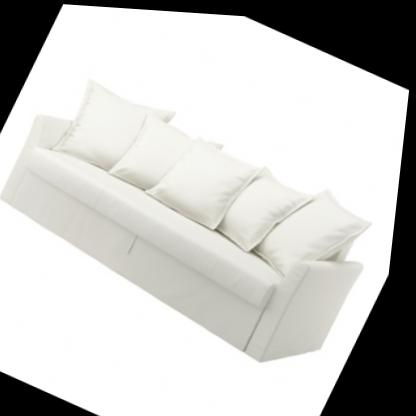Sofa: (0, 49, 412, 385)
